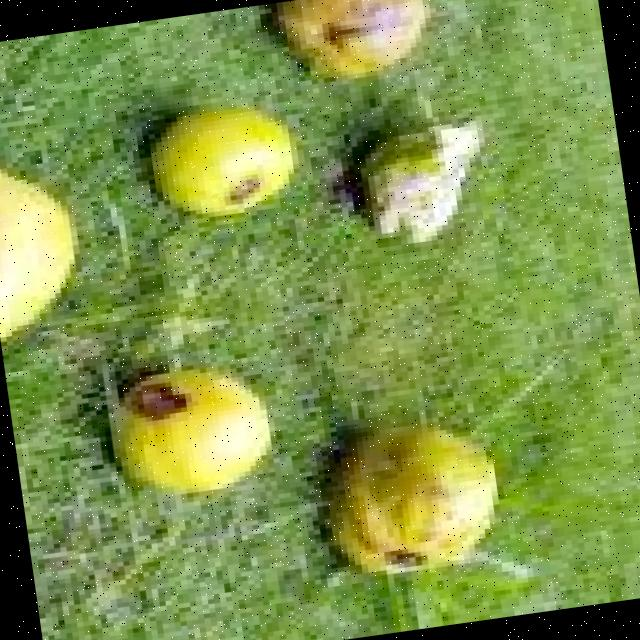Bad_Guava 0 day: (316, 423, 498, 578), (102, 370, 271, 499), (339, 121, 475, 241), (268, 0, 421, 77)
Good_Guava 5-7 days: (137, 110, 296, 217), (0, 166, 70, 346)
